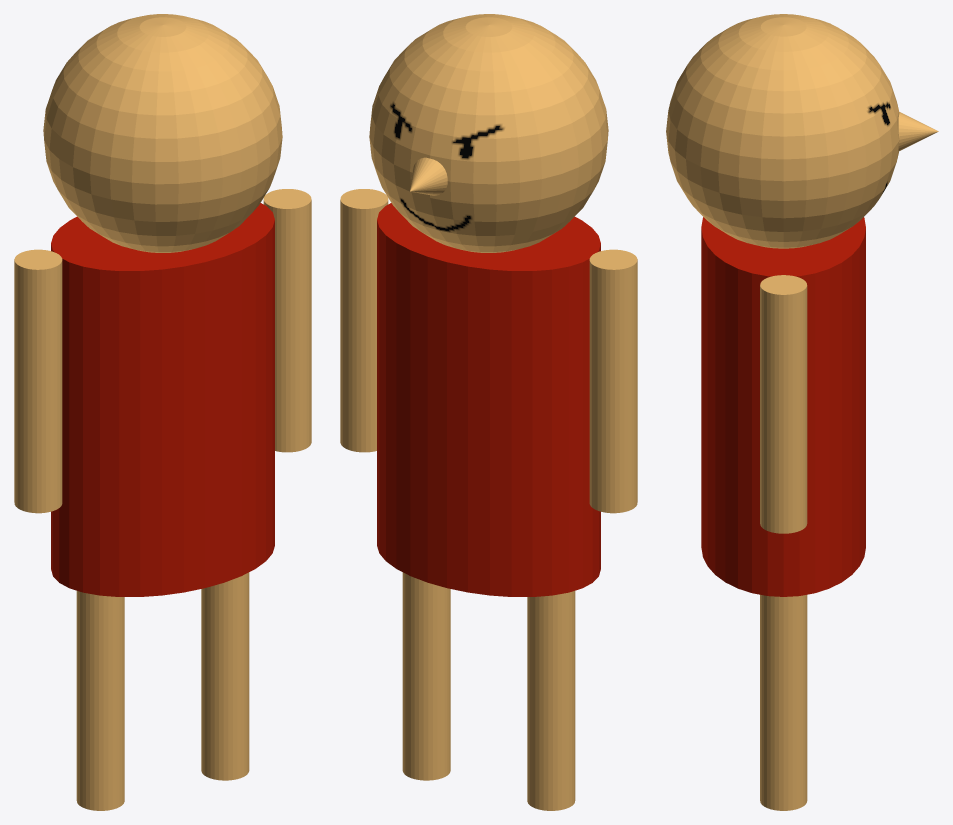
The model's file is Player.gltf.
The picture shows the model from 3 angles, left to right: view 1: azimuth 30°, elevation 25°; view 2: azimuth 150°, elevation 25°; view 3: azimuth 270°, elevation 25°; orthographic projection.
Parts seen in each view (by area): view 1: Cylinder.002, Sphere, Arm.L, Leg.L, Arm.R, Leg.R; view 2: Cylinder.002, Sphere, Arm.L, Leg.L, Arm.R, Leg.R, Cone; view 3: Cylinder.002, Sphere, Arm.R, Leg.R, Cone.
Part boxes in pixels (left/top/right/bottom): Cylinder.002: left=51, top=203, right=274, bottom=596; Sphere: left=43, top=14, right=282, bottom=252; Arm.L: left=14, top=249, right=62, bottom=513; Leg.L: left=76, top=591, right=124, bottom=810; Arm.R: left=263, top=189, right=311, bottom=452; Leg.R: left=201, top=572, right=249, bottom=780; Cylinder.002: left=377, top=203, right=600, bottom=596; Sphere: left=369, top=14, right=608, bottom=252; Arm.L: left=589, top=249, right=637, bottom=513; Leg.L: left=527, top=591, right=575, bottom=810; Arm.R: left=340, top=189, right=388, bottom=452; Leg.R: left=402, top=572, right=450, bottom=780; Cone: left=410, top=157, right=447, bottom=195; Cylinder.002: left=701, top=217, right=865, bottom=596; Sphere: left=666, top=14, right=899, bottom=248; Arm.R: left=760, top=275, right=807, bottom=533; Leg.R: left=760, top=594, right=807, bottom=810; Cone: left=898, top=112, right=938, bottom=151.
Size of the model in its own units: 0.7 by 1.75 by 0.58.
Materials: 3 (3 with a texture image).
